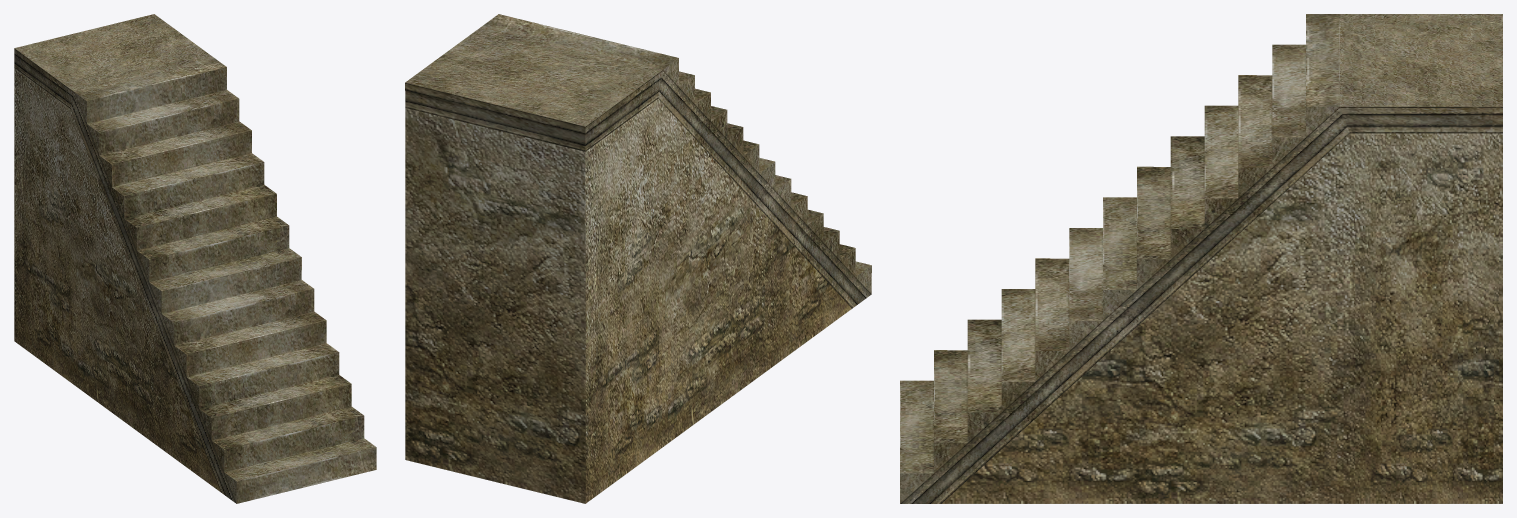
File: hrt_ladder4.glb
3 renders of one model, left to right at view 1: azimuth 30°, elevation 25°; view 2: azimuth 150°, elevation 25°; view 3: azimuth 270°, elevation 25°, orthographic. The views are drawn at different scales.
Visible parts, largest first — view 1: hrt_ladder4-col; view 2: hrt_ladder4-col; view 3: hrt_ladder4-col.
Boxes of the visible parts, box(x1,y1,x2,y2) form: hrt_ladder4-col: box(14, 14, 376, 503); hrt_ladder4-col: box(405, 14, 871, 503); hrt_ladder4-col: box(900, 14, 1502, 503).
Size of the model in its own units: 2 by 4 by 5.5.
Materials: 4 (4 with a texture image).
